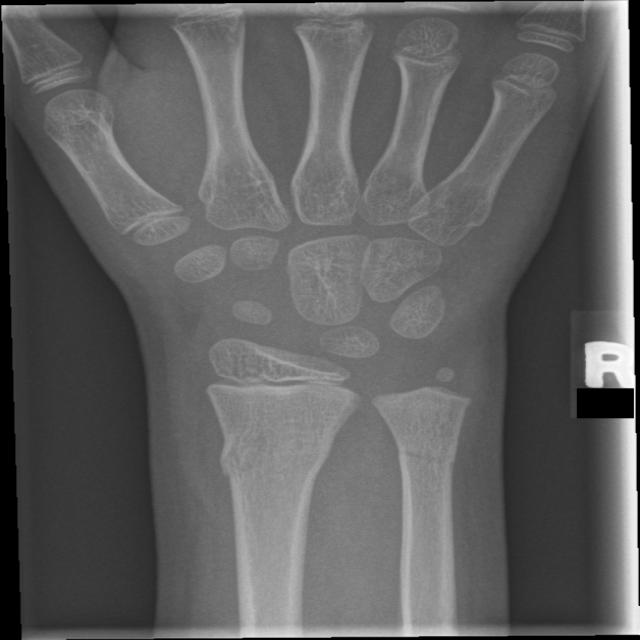radius fracture: (201, 416, 364, 508)
ulna fracture: (378, 417, 474, 504)
